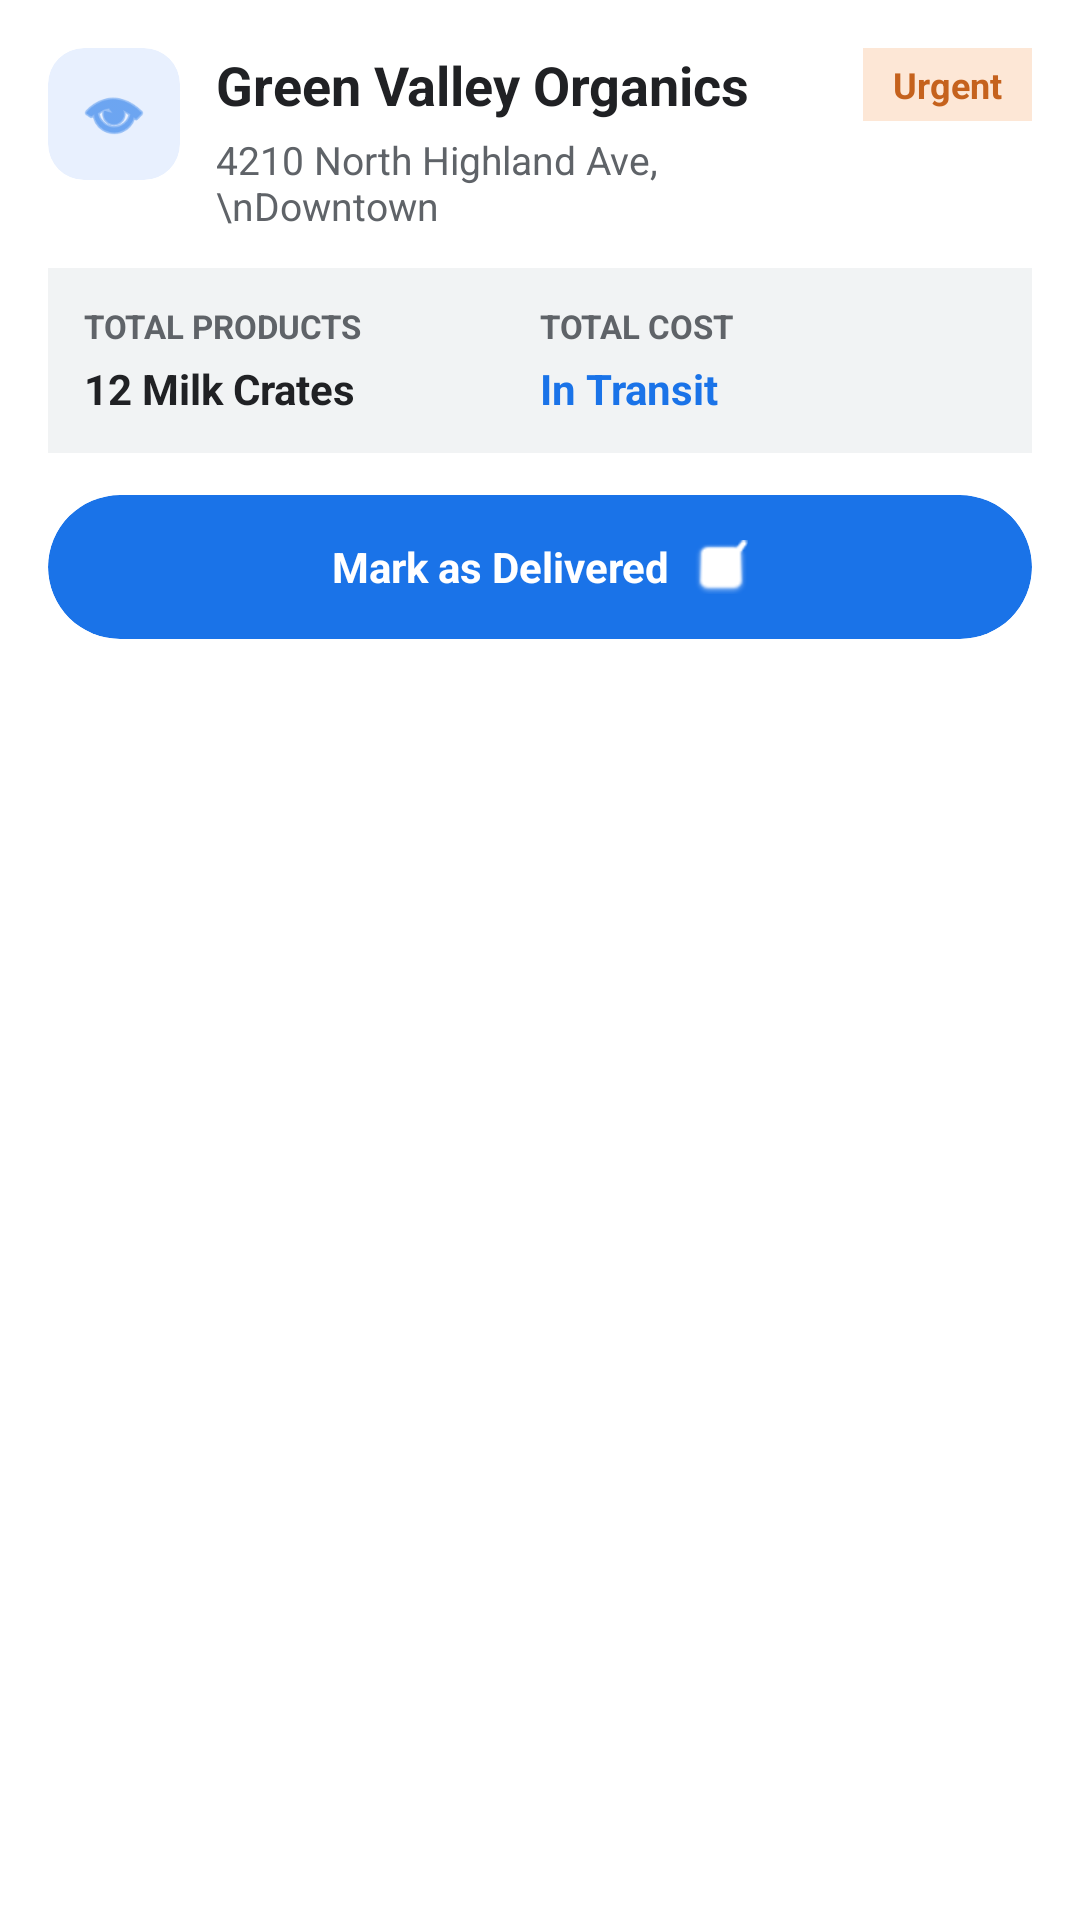

Point at icon controls on the screen. Image size 1080x1920, points as point (x, y).
view: point (114, 116)
